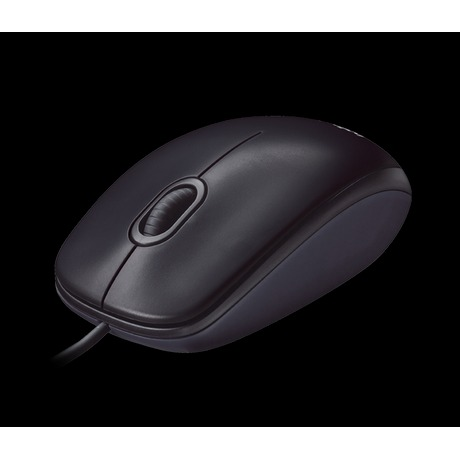mouse: (51, 111, 417, 356)
